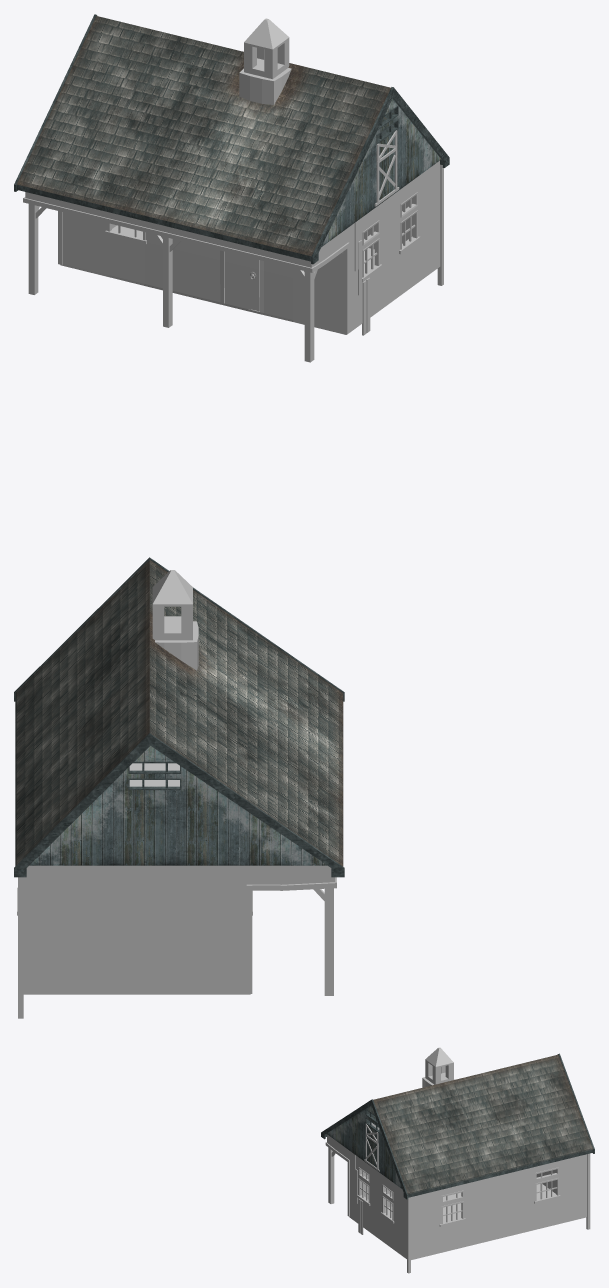
Rendered from Barn.fbx.
The picture shows the model from 3 angles, top to bottom: view 1: azimuth 30°, elevation 25°; view 2: azimuth 150°, elevation 25°; view 3: azimuth 270°, elevation 25°; orthographic projection. The views are drawn at different scales.
Parts seen in each view (by area): view 1: Cube.030, Cube.029, Cube.040, Plane.025, Cube.042, Cube.031, Cube.033, Cube.032; view 2: Cube.030, Cube.029, Cube.041, Plane.025, Cube.033; view 3: Cube.030, Cube.029, Cube.040, Plane.025, Cube.031.
Boxes of the visible parts, <box> form: Cube.030: <box>14,14,449,264</box>; Cube.029: <box>25,161,440,334</box>; Cube.040: <box>321,99,440,246</box>; Plane.025: <box>239,18,291,104</box>; Cube.042: <box>224,251,259,311</box>; Cube.031: <box>304,271,314,362</box>; Cube.033: <box>28,204,38,294</box>; Cube.032: <box>163,236,172,327</box>; Cube.030: <box>14,557,344,877</box>; Cube.029: <box>17,763,335,994</box>; Cube.041: <box>29,746,326,865</box>; Plane.025: <box>152,570,198,670</box>; Cube.033: <box>324,888,333,995</box>; Cube.030: <box>321,1053,594,1199</box>; Cube.029: <box>327,1123,586,1259</box>; Cube.040: <box>327,1106,401,1188</box>; Plane.025: <box>422,1047,454,1087</box>; Cube.031: <box>328,1147,334,1203</box>.
Bounding box in the file's own units: 2102 × 1609 × 4746.
